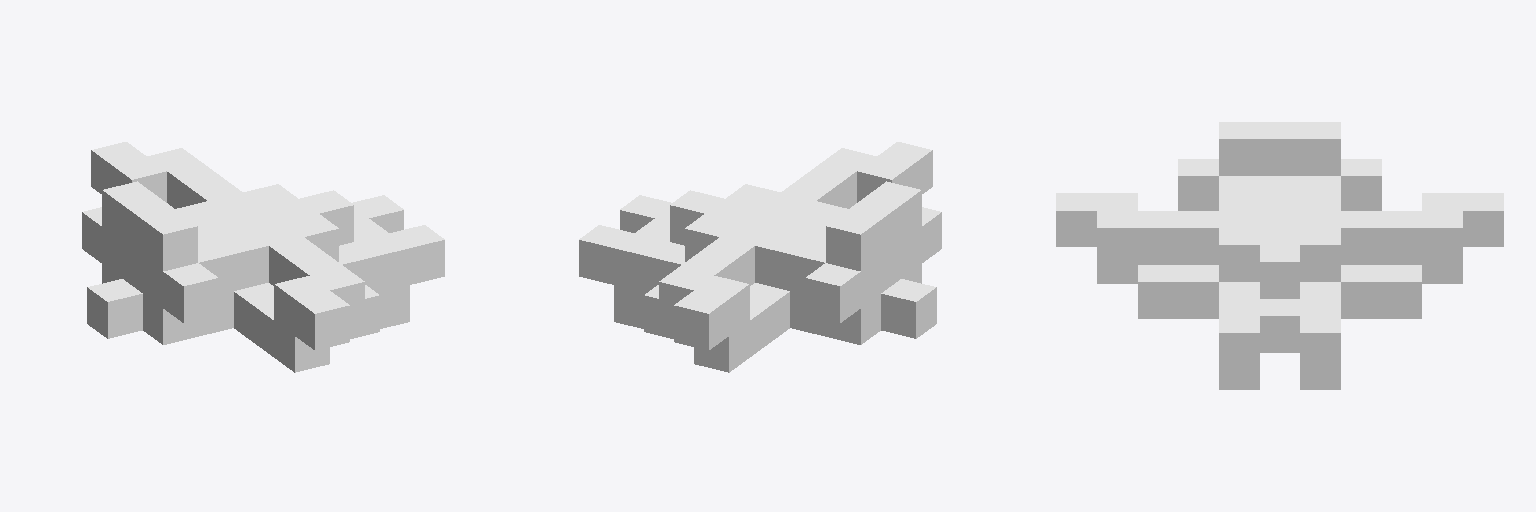
Rendered from pigeon-02.obj.
The picture shows the model from 3 angles: view 1: azimuth 30°, elevation 25°; view 2: azimuth 150°, elevation 25°; view 3: azimuth 270°, elevation 25°; orthographic projection.
Size of the model in its own units: 9 by 4 by 11.